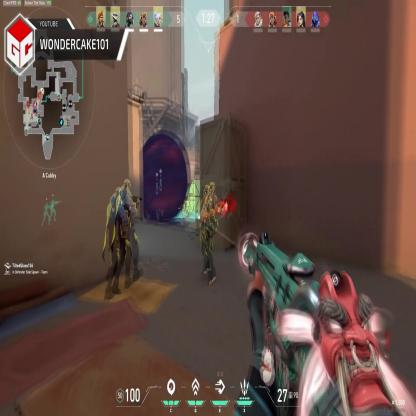enemy: (113, 178, 140, 292), (199, 185, 218, 286), (182, 198, 192, 228)
enemy_head: (124, 179, 132, 194), (208, 183, 215, 195), (185, 201, 188, 209)
